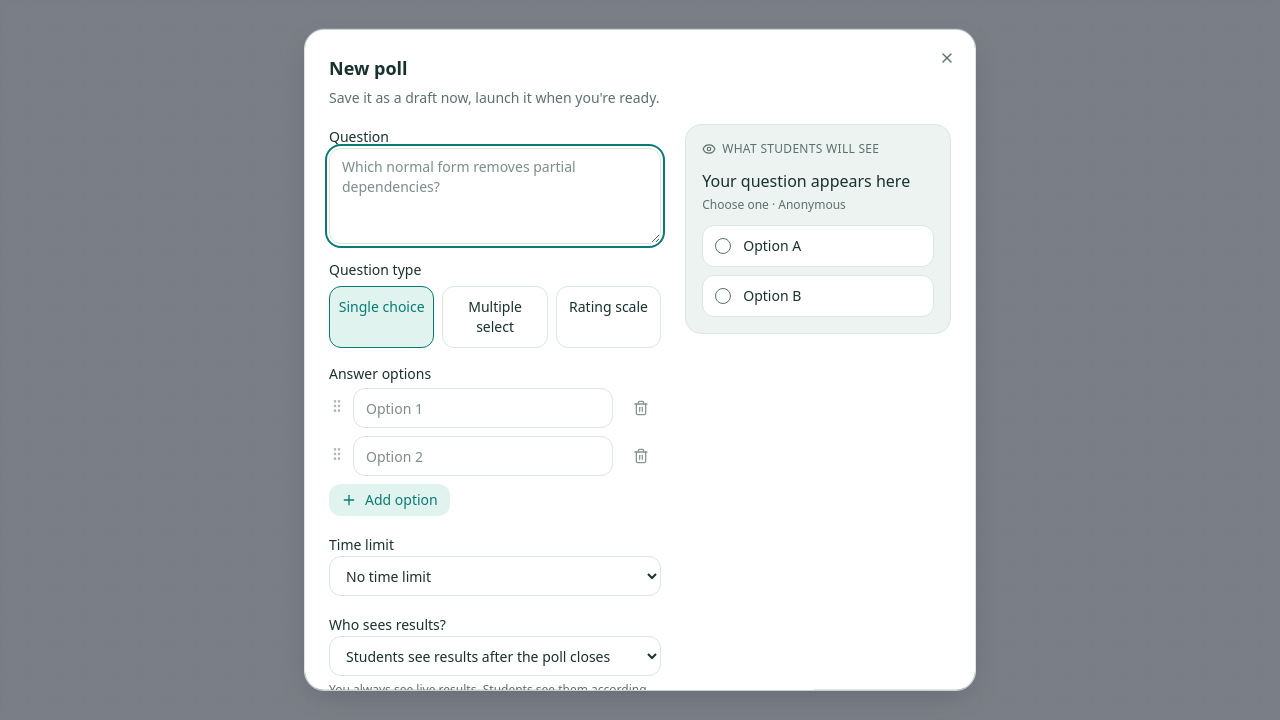
Scenario: poll builder › previews the student view as the lecturer types
Type "What is a primary key?" into the text box labelled "Question" at [495, 196], box [329,148,661,244]
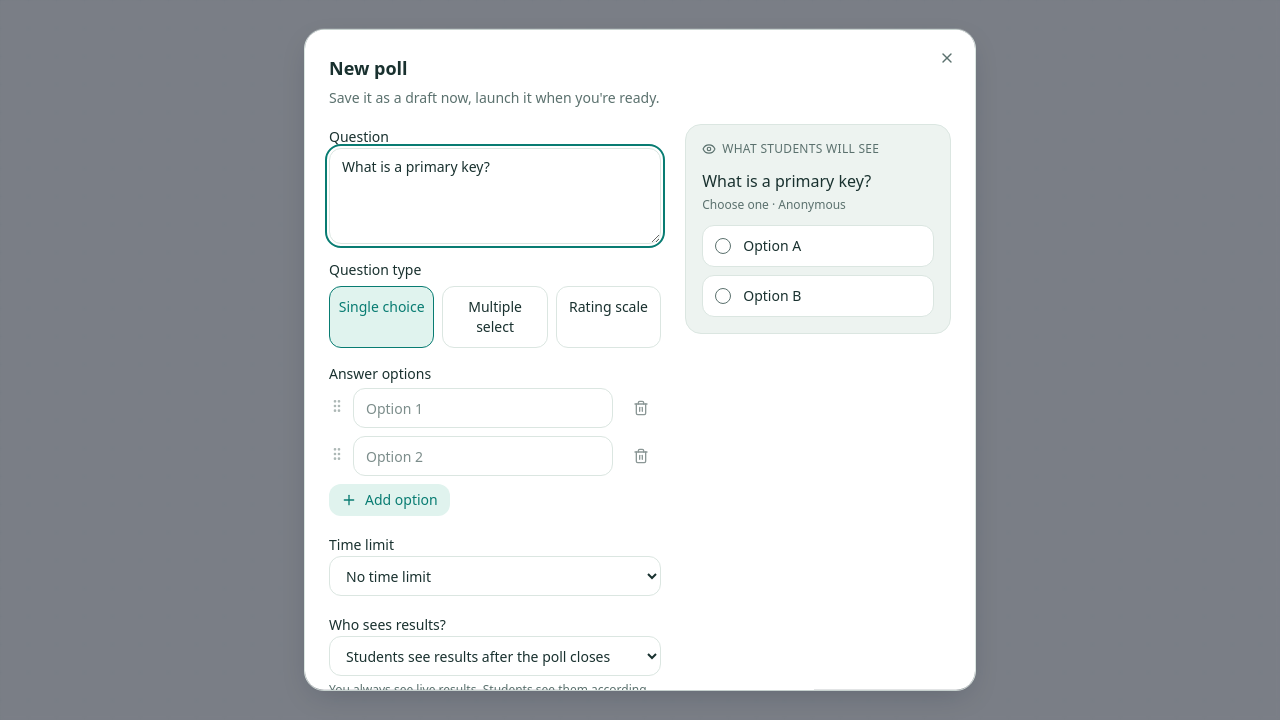
Type "Unique identifier" into the field labelled "Option 1" at [483, 408], box [353,388,613,428]
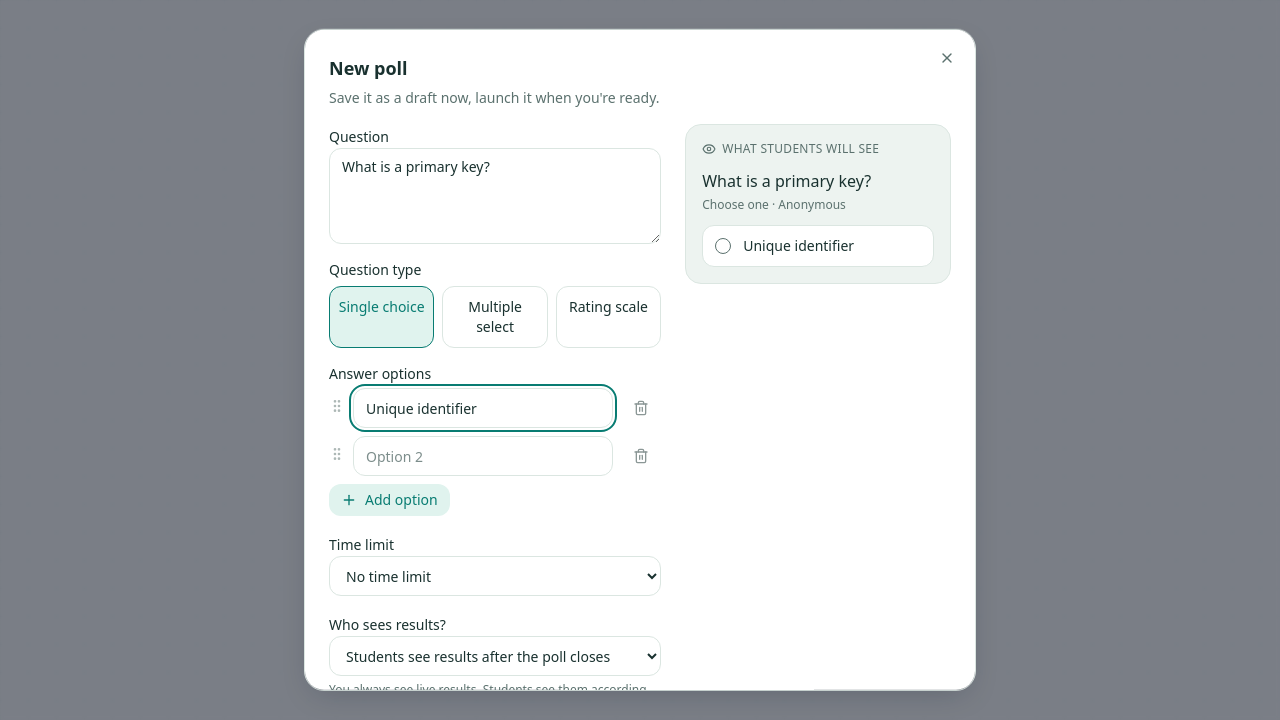
expect the element named "Student preview" shows "Anonymous": met, box [769,196,846,213]
expect the element named "Student preview" shows "What is a primary key?": met, box [702,170,871,192]
expect the element named "Student preview" shows "Unique identifier": met, box [743,236,854,255]
